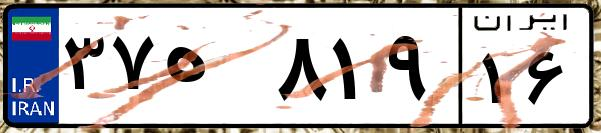1: (330, 28, 385, 110), (475, 38, 525, 113)
3: (57, 26, 110, 100)
6: (525, 38, 570, 115)
7: (110, 28, 158, 98)
8: (270, 28, 330, 110)
9: (385, 28, 445, 110)
ه: (158, 20, 270, 120)
